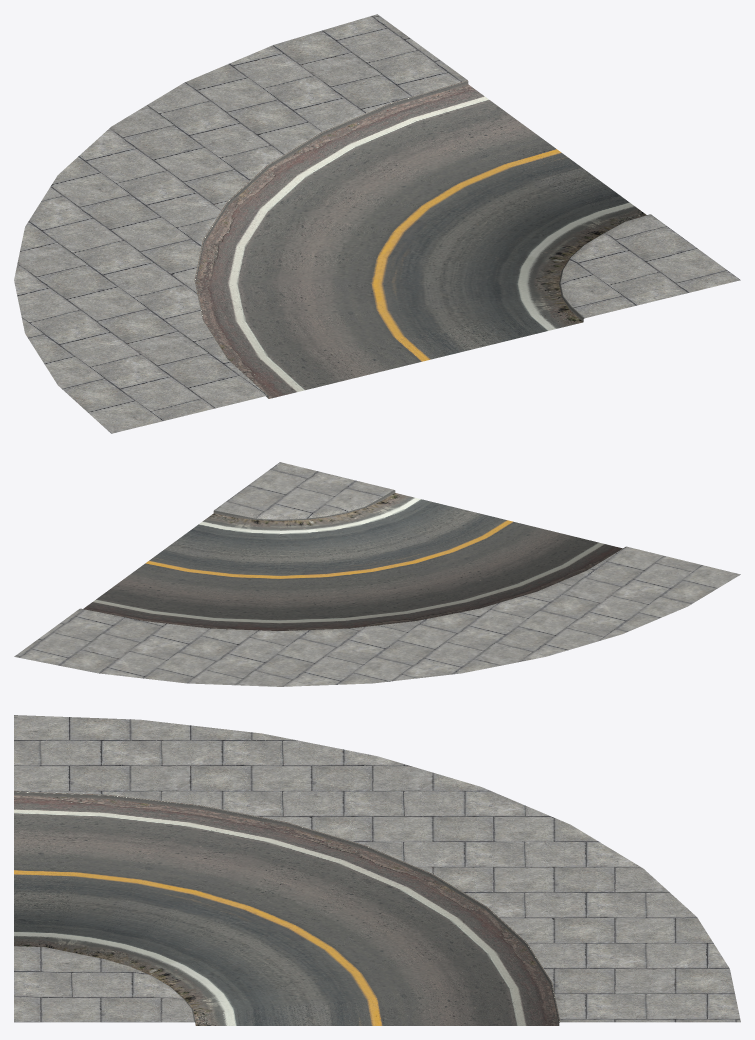
File: CurvePedestrian.FBX
The picture shows the model from 3 angles, top to bottom: view 1: azimuth 30°, elevation 25°; view 2: azimuth 150°, elevation 25°; view 3: azimuth 270°, elevation 25°; orthographic projection. The views are drawn at different scales.
Visible parts, largest first — view 1: Plane002; view 2: Plane002; view 3: Plane002.
Boxes of the visible parts, <box> form: Plane002: <box>14,14,740,433</box>; Plane002: <box>14,462,740,686</box>; Plane002: <box>14,715,740,1025</box>.
Size of the model in its own units: 1230 by 6.93 by 1230.
